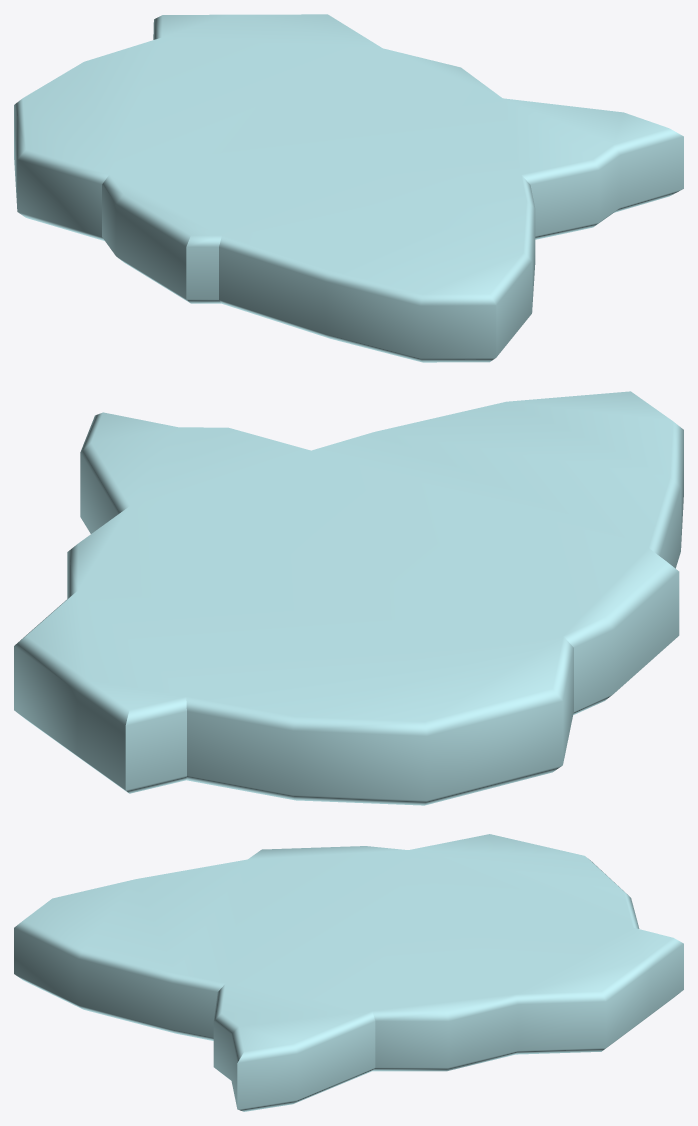
Rendered from ice_floe_medium_008.fbx.
The picture shows the model from 3 angles, top to bottom: view 1: azimuth 30°, elevation 25°; view 2: azimuth 150°, elevation 25°; view 3: azimuth 270°, elevation 25°; orthographic projection. The views are drawn at different scales.
Visible parts, largest first — view 1: ice_floe_medium_008; view 2: ice_floe_medium_008; view 3: ice_floe_medium_008.
Part boxes in pixels (x1,y1,x2,y2): ice_floe_medium_008: (14,14,683,362); ice_floe_medium_008: (14,391,683,805); ice_floe_medium_008: (14,834,683,1111).
Bounding box in the file's own units: 719 × 901 × 89.44.
